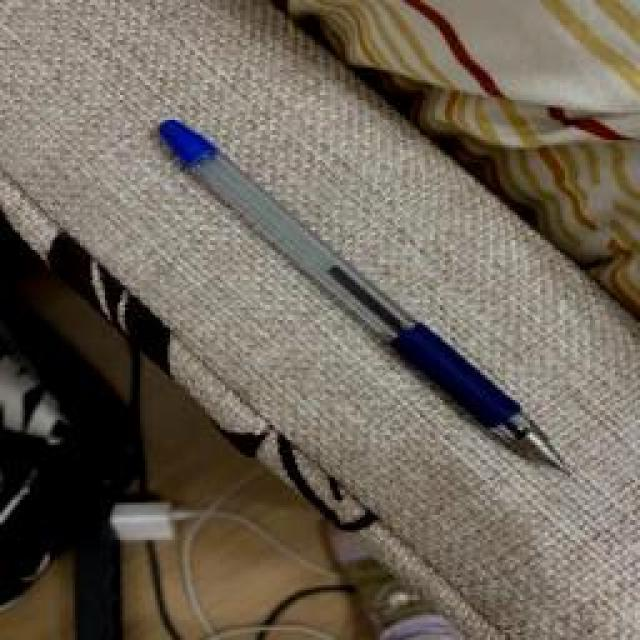pen: (155, 118, 570, 481)
